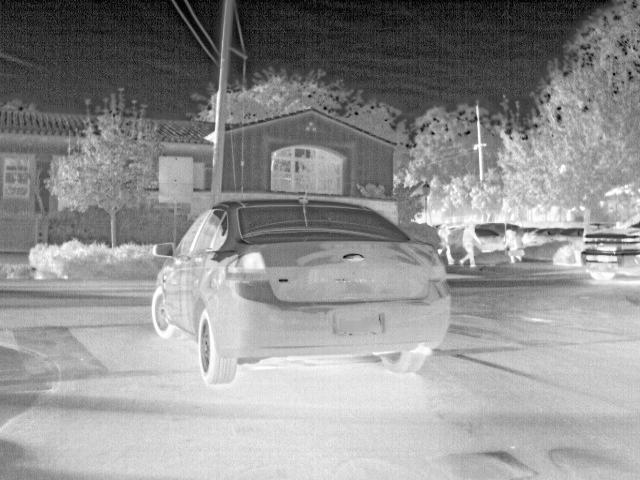car: (150, 199, 454, 385), (582, 215, 640, 284), (547, 227, 581, 248), (525, 227, 555, 250), (478, 227, 504, 252), (520, 225, 535, 247)
person: (438, 216, 452, 264), (463, 222, 478, 266), (504, 230, 520, 258)
